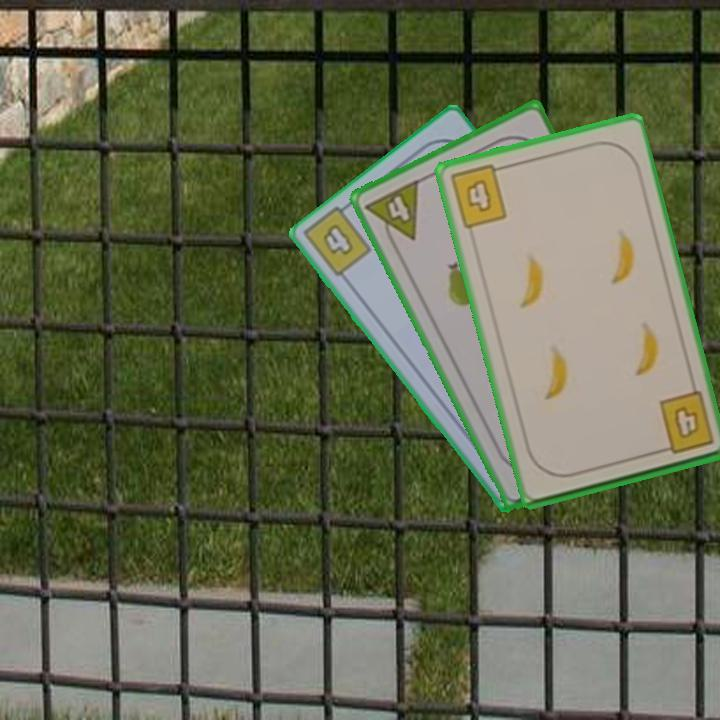4b: (445, 161, 510, 231), (652, 388, 717, 458), (318, 219, 356, 259)
4p: (361, 175, 422, 252)
